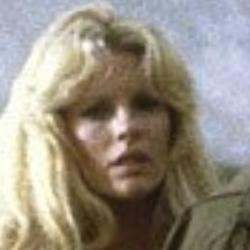face: (3, 8, 220, 224)
